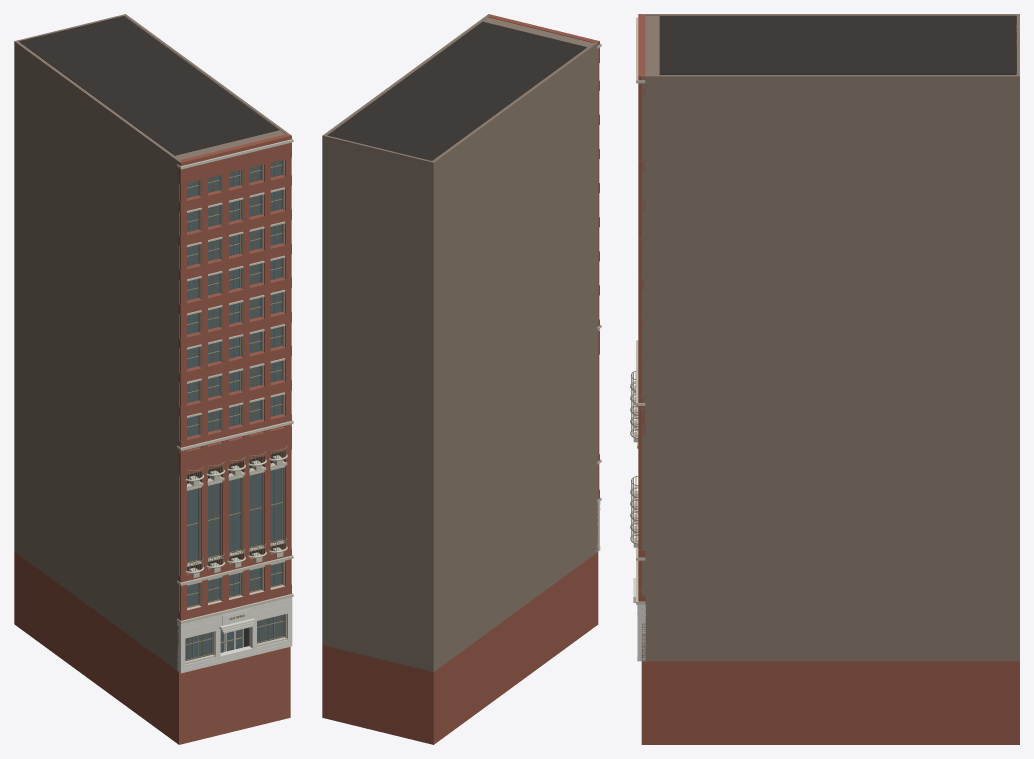
File: iam_temple.glb
The picture shows the model from 3 angles, left to right: view 1: azimuth 30°, elevation 25°; view 2: azimuth 150°, elevation 25°; view 3: azimuth 270°, elevation 25°; orthographic projection. The views are drawn at different scales.
Parts seen in each view (by area): view 1: Plain party and rear masonry, Red brick facade, Opaque recessed interior, Separate recessed window panes, Pale projecting limestone surrounds, Physical brass sash and balcony rails, White temple entrance stone; view 2: Plain party and rear masonry, Red brick facade, Opaque recessed interior; view 3: Plain party and rear masonry, Red brick facade, Opaque recessed interior, Pale projecting limestone surrounds, Physical brass sash and balcony rails.
Boxes of the visible parts, x1=… form: Plain party and rear masonry: x1=14, y1=14, x2=289, y2=671; Red brick facade: x1=14, y1=134, x2=291, y2=744; Opaque recessed interior: x1=19, y1=16, x2=279, y2=660; Separate recessed window panes: x1=185, y1=160, x2=282, y2=659; Pale projecting limestone surrounds: x1=177, y1=138, x2=293, y2=664; Physical brass sash and balcony rails: x1=185, y1=160, x2=287, y2=660; White temple entrance stone: x1=177, y1=597, x2=292, y2=673; Plain party and rear masonry: x1=322, y1=15, x2=598, y2=671; Red brick facade: x1=322, y1=14, x2=599, y2=744; Opaque recessed interior: x1=327, y1=21, x2=586, y2=160; Plain party and rear masonry: x1=641, y1=14, x2=1019, y2=661; Red brick facade: x1=638, y1=14, x2=1019, y2=744; Opaque recessed interior: x1=659, y1=16, x2=1016, y2=74; Pale projecting limestone surrounds: x1=630, y1=17, x2=645, y2=604; Physical brass sash and balcony rails: x1=631, y1=371, x2=638, y2=541.
Bounding box in the file's own units: 12.95 × 64 × 33.81.
